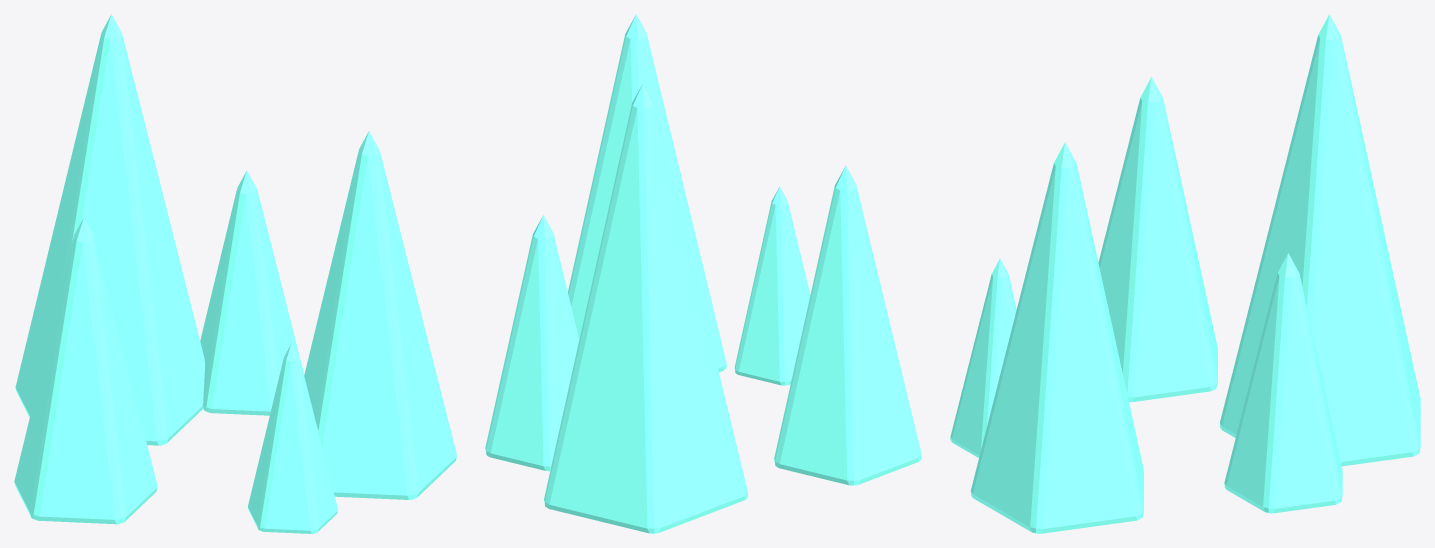
File: crystal_deposit.glb
The picture shows the model from 3 angles, left to right: view 1: azimuth 30°, elevation 25°; view 2: azimuth 150°, elevation 25°; view 3: azimuth 270°, elevation 25°; orthographic projection. The views are drawn at different scales.
Visible parts, largest first — view 1: _MeshInstance3D_545.001, _MeshInstance3D_543.001, _MeshInstance3D_541.001, _MeshInstance3D_539.001, _MeshInstance3D_537.001; view 2: _MeshInstance3D_545.001, _MeshInstance3D_541.001, _MeshInstance3D_539.001, _MeshInstance3D_543.001, _MeshInstance3D_537.001; view 3: _MeshInstance3D_545.001, _MeshInstance3D_543.001, _MeshInstance3D_541.001, _MeshInstance3D_539.001, _MeshInstance3D_537.001.
Part boxes in pixels (x1,y1,x2,y2): _MeshInstance3D_545.001: [15, 14, 204, 445]; _MeshInstance3D_543.001: [304, 131, 456, 499]; _MeshInstance3D_541.001: [14, 217, 157, 524]; _MeshInstance3D_539.001: [200, 170, 304, 415]; _MeshInstance3D_537.001: [248, 343, 337, 533]; _MeshInstance3D_545.001: [544, 83, 747, 533]; _MeshInstance3D_541.001: [774, 166, 921, 485]; _MeshInstance3D_539.001: [485, 215, 579, 471]; _MeshInstance3D_543.001: [568, 14, 726, 372]; _MeshInstance3D_537.001: [734, 186, 810, 385]; _MeshInstance3D_545.001: [1220, 14, 1420, 466]; _MeshInstance3D_543.001: [970, 142, 1143, 533]; _MeshInstance3D_541.001: [1098, 77, 1217, 402]; _MeshInstance3D_539.001: [1224, 253, 1342, 513]; _MeshInstance3D_537.001: [950, 258, 1016, 457].
Bounding box in the file's own units: 1.39 × 1.38 × 1.42.
